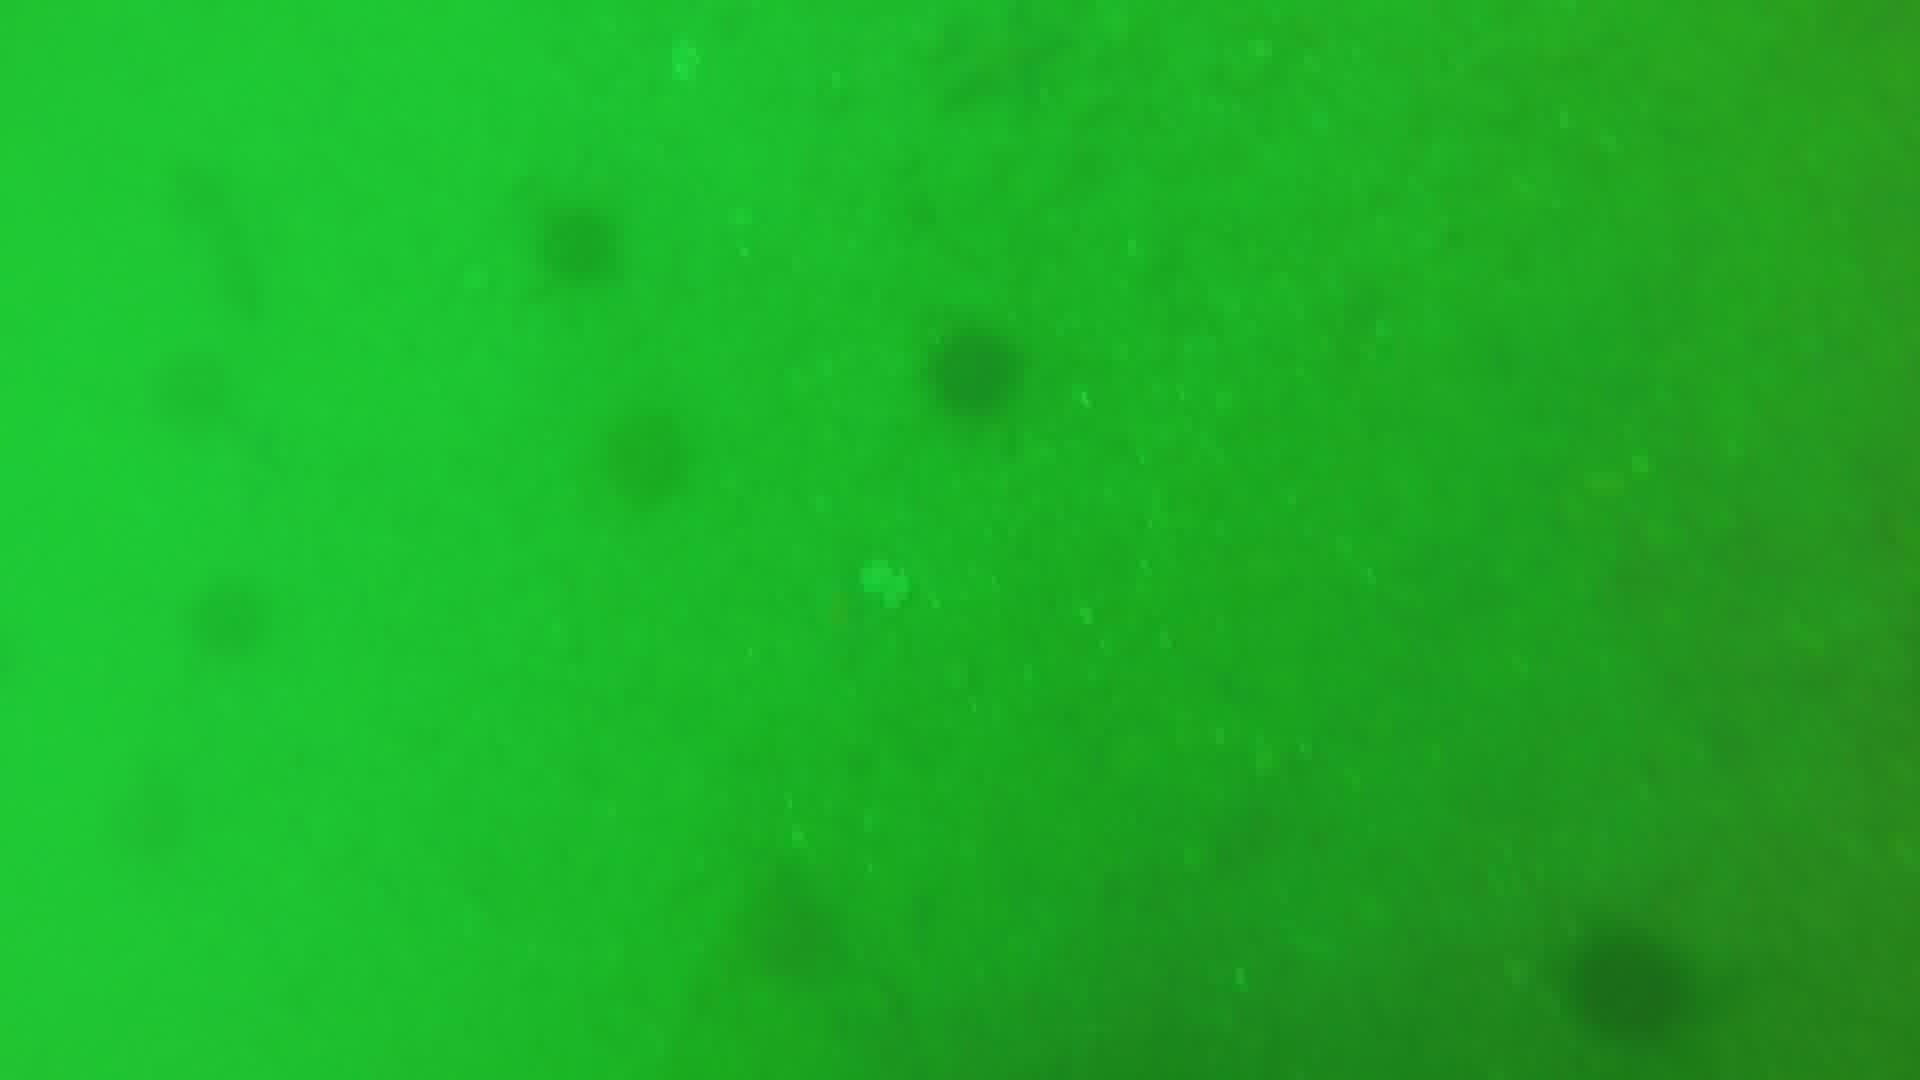echinus: (1559, 924, 1691, 1036), (918, 316, 1026, 423), (597, 421, 688, 502), (175, 587, 278, 657), (149, 355, 220, 440), (535, 210, 617, 282)
